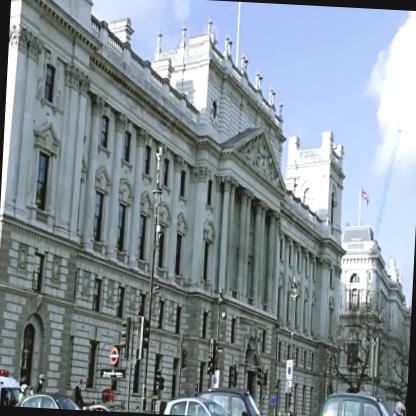car: (198, 388, 289, 415), (310, 391, 400, 415), (3, 393, 108, 411), (156, 396, 255, 415)
